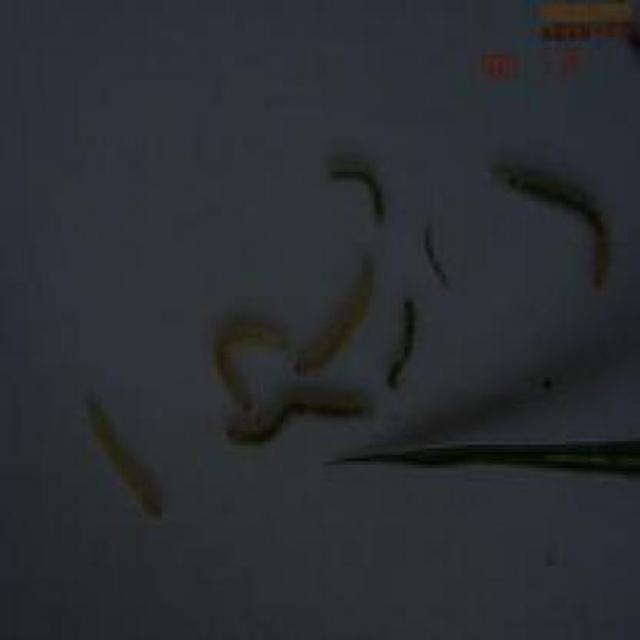leaf-folder: (483, 131, 629, 315), (209, 360, 383, 482), (71, 360, 177, 514), (288, 245, 383, 388), (185, 308, 292, 403), (317, 148, 414, 238), (378, 286, 429, 408), (418, 204, 464, 290)
